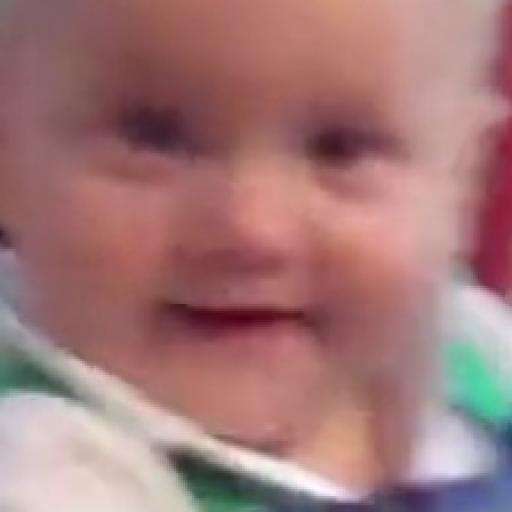Autism: (13, 4, 512, 461)
